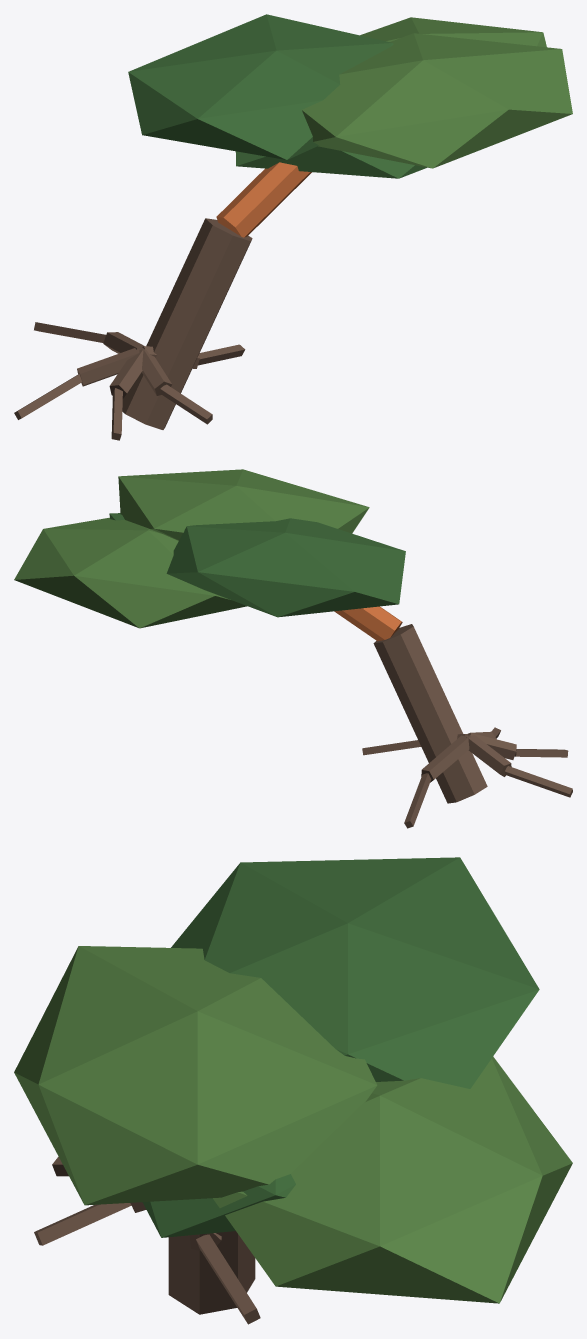
The model's file is vindtall_2.glb.
3 views of the same model, one above another, from view 1: azimuth 30°, elevation 25°; view 2: azimuth 150°, elevation 25°; view 3: azimuth 270°, elevation 25° (orthographic). The views are drawn at different scales.
Parts seen in each view (by area): view 1: vindtall_2; view 2: vindtall_2; view 3: vindtall_2.
Boxes of the visible parts, x1,y1,x2,y2 form: vindtall_2: [14, 14, 572, 440]; vindtall_2: [14, 469, 572, 828]; vindtall_2: [14, 857, 572, 1324].
Size of the model in its own units: 7.9 by 4.02 by 3.92.
